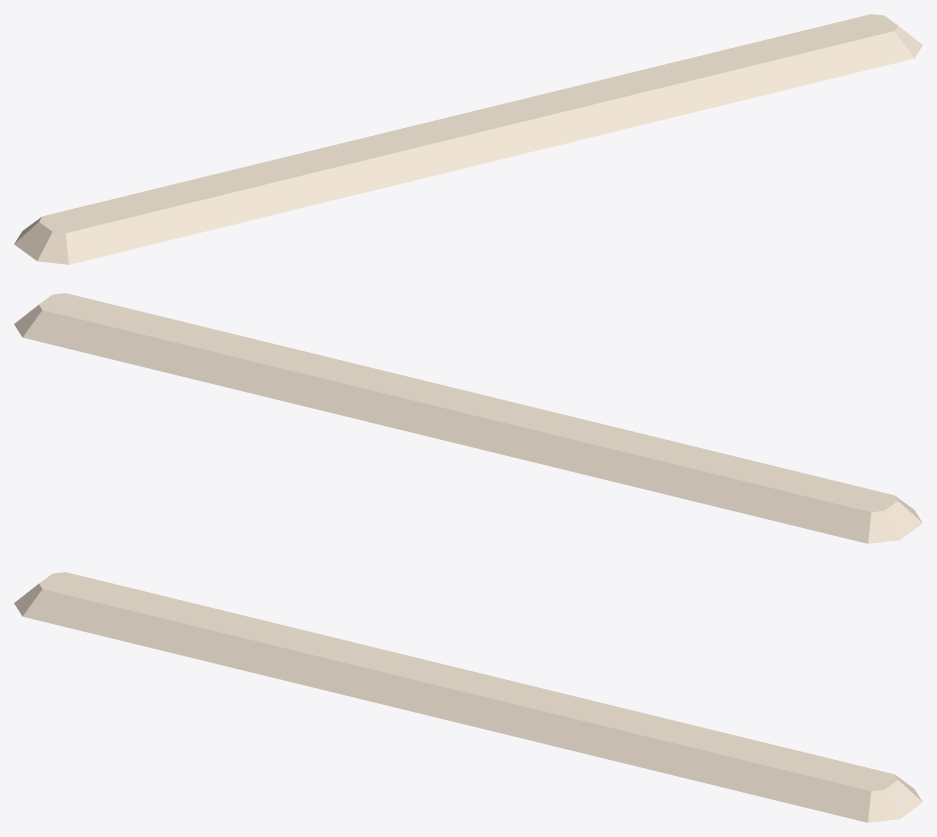
File: Puzzle_Closed_Conduit_Straight.glb
3 views of the same model, one above another, from view 1: azimuth 30°, elevation 25°; view 2: azimuth 150°, elevation 25°; view 3: azimuth 330°, elevation 25° (orthographic).
Visible parts, largest first — view 1: Puzzle_Closed_Conduit_Straight; view 2: Puzzle_Closed_Conduit_Straight; view 3: Puzzle_Closed_Conduit_Straight.
Boxes of the visible parts, x1,y1,x2,y2 form: Puzzle_Closed_Conduit_Straight: (14,14,922,264); Puzzle_Closed_Conduit_Straight: (14,293,922,543); Puzzle_Closed_Conduit_Straight: (14,572,922,822).
Size of the model in its own units: 1.1 by 0.025 by 0.1.
